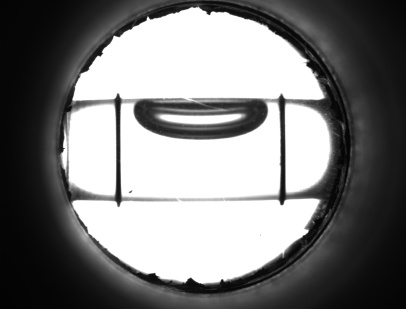line: (111, 116, 125, 189), (276, 117, 291, 185)
